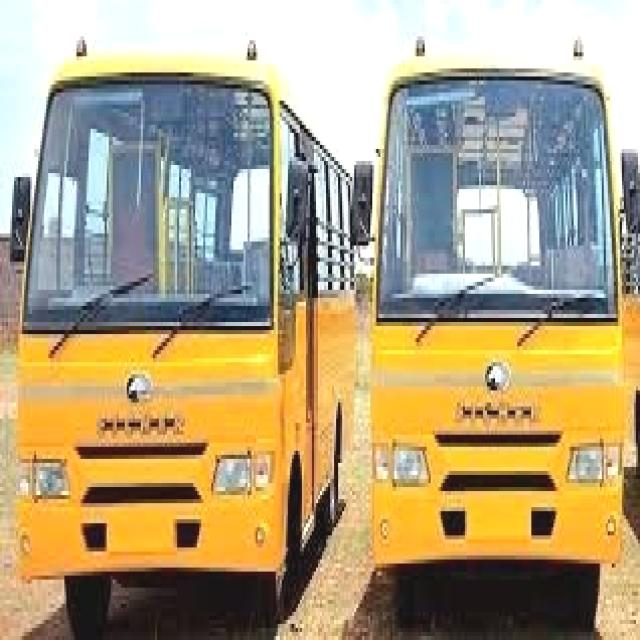bus: (7, 35, 369, 632), (360, 35, 640, 613)
